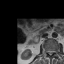CCS_normal: (49, 48, 51, 57)
LFS_stenosis: (53, 49, 55, 54)
LLS_normal: (51, 49, 53, 55)
RFS_normal: (46, 49, 47, 54)
RLS_normal: (47, 49, 49, 55)
